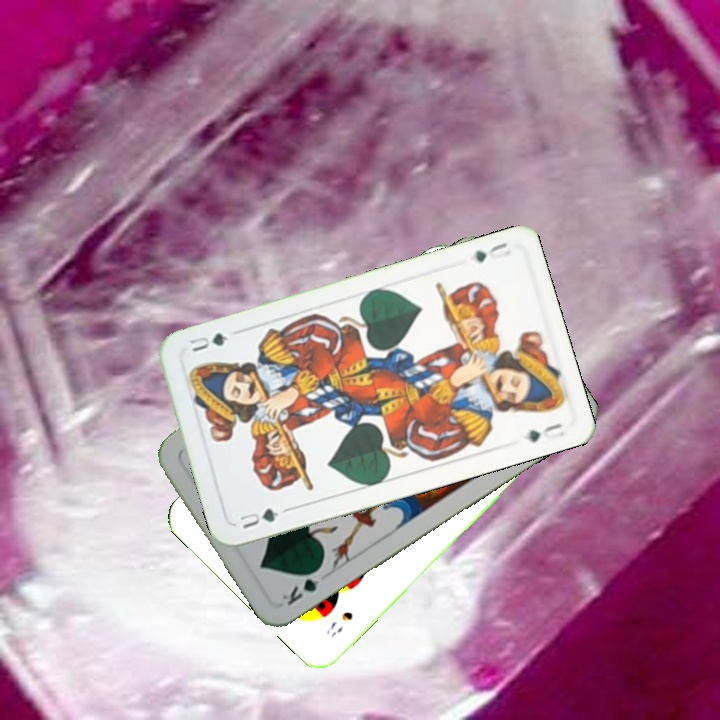GK: (277, 563, 325, 609)
GU: (234, 504, 282, 532), (471, 238, 513, 265)
S8: (322, 607, 356, 639)
